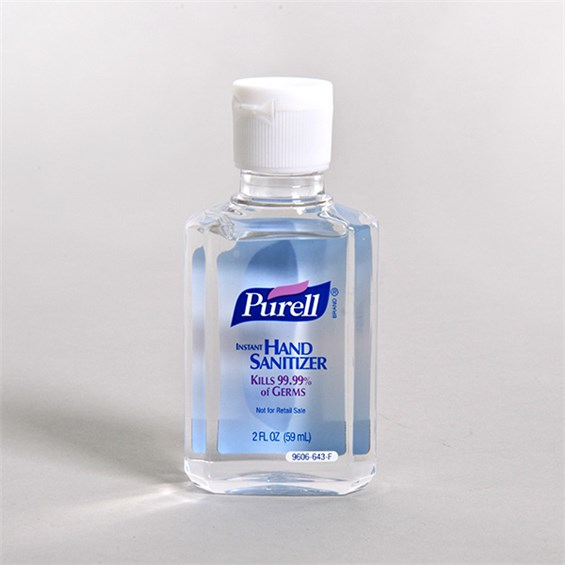Sanitizer: (180, 67, 383, 500)
